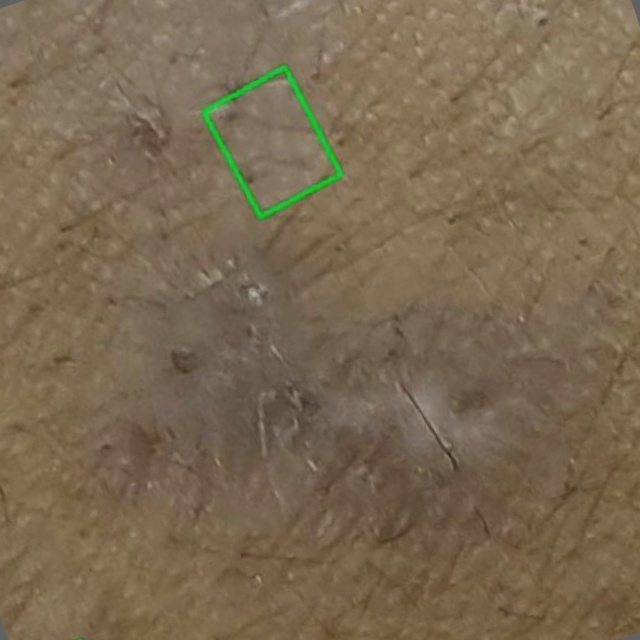Atopic Dermatitis: (204, 68, 342, 217)
